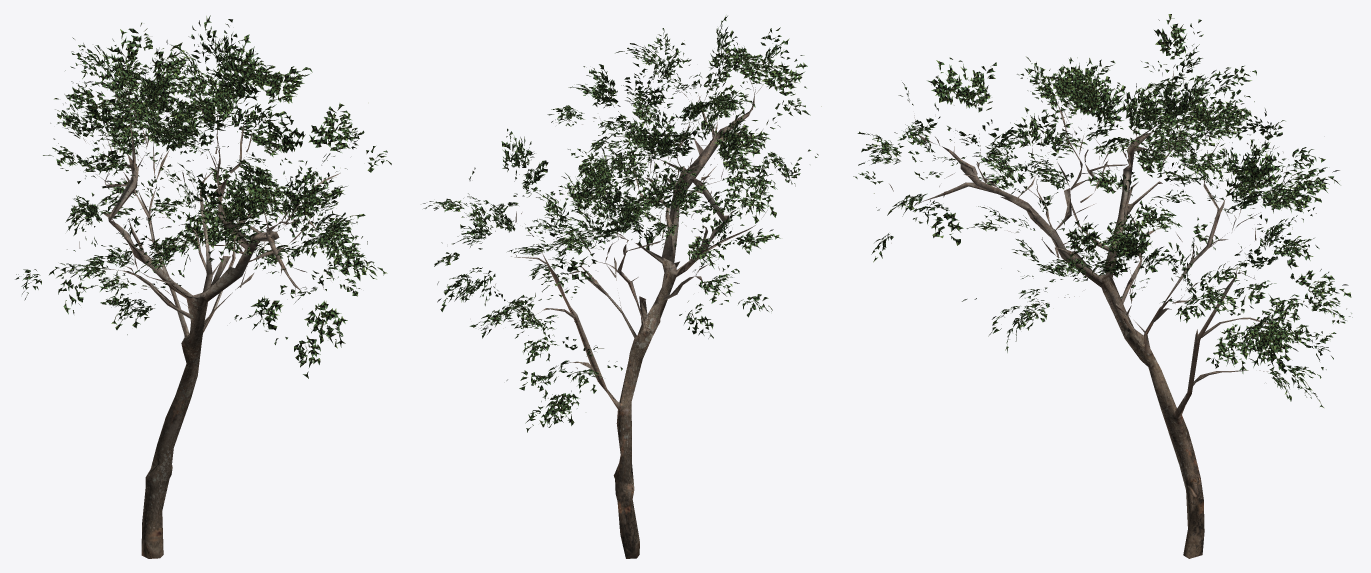
Rendered from tree_small_02.glb.
3 renders of one model, left to right at view 1: azimuth 30°, elevation 25°; view 2: azimuth 150°, elevation 25°; view 3: azimuth 270°, elevation 25°, orthographic. The views are drawn at different scales.
Visible parts, largest first — view 1: tree_small_02_LOD0; view 2: tree_small_02_LOD0; view 3: tree_small_02_LOD0.
Boxes of the visible parts, x1,y1,x2,y2 form: tree_small_02_LOD0: (15,15,391,558); tree_small_02_LOD0: (423,16,821,558); tree_small_02_LOD0: (853,14,1352,558).
Size of the model in its own units: 2.88 by 4.54 by 4.14.
Materials: 3 (3 with a texture image).
